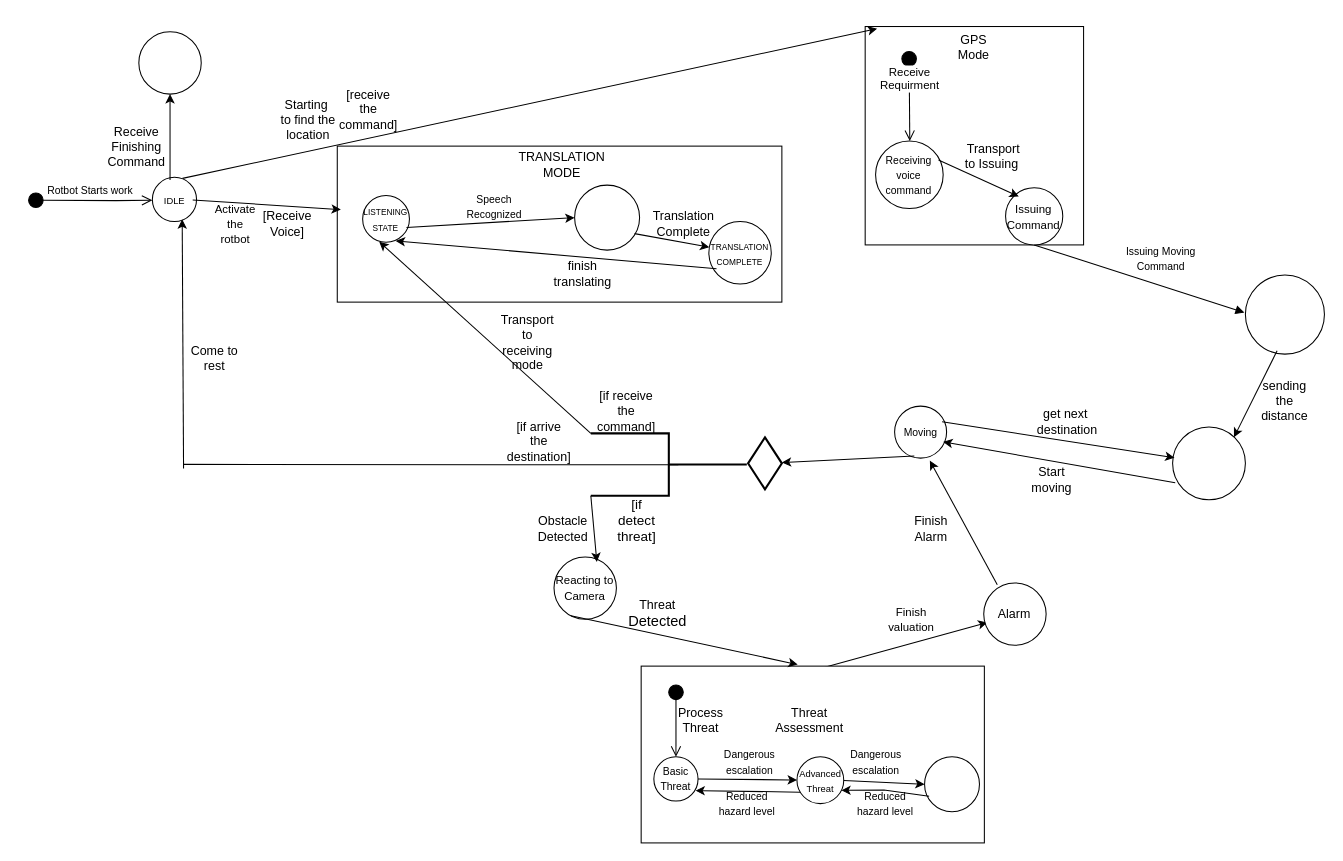
This 1343x861 diagram has some shape labels left out. The shapes that lost their labels are listed below. From the top down, each one's box as (x1, y1, x2, y2) in pixels, then its label:
(125, 18, 214, 107): Finish
(574, 184, 640, 250): TRANSLATING STATE
(1244, 274, 1324, 354): Calculating route
(1172, 426, 1245, 500): Get next location
(924, 756, 979, 812): Emergency Tier Threat
